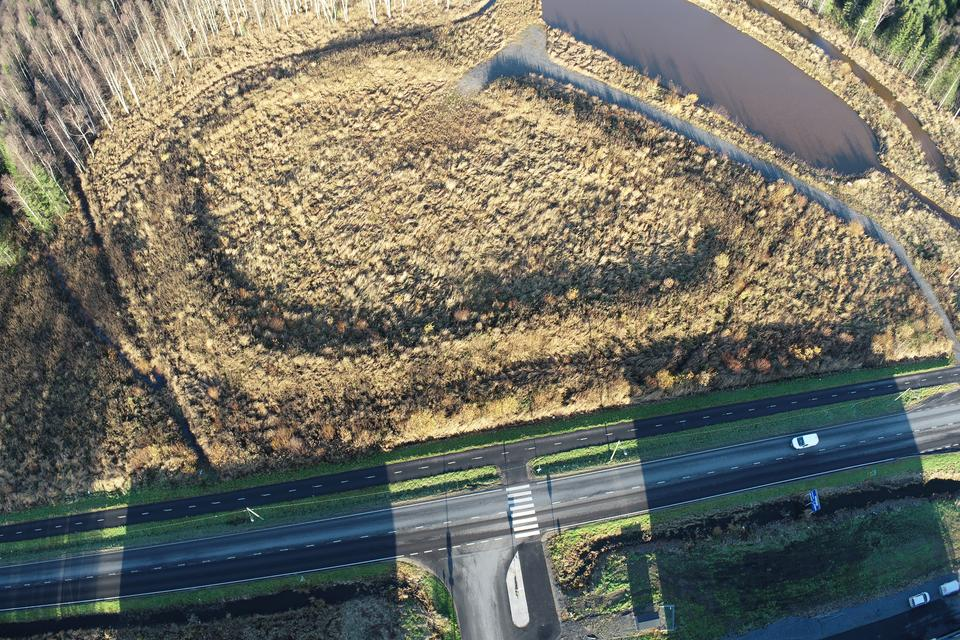intersection: (377, 427, 579, 640), (925, 302, 960, 472)
